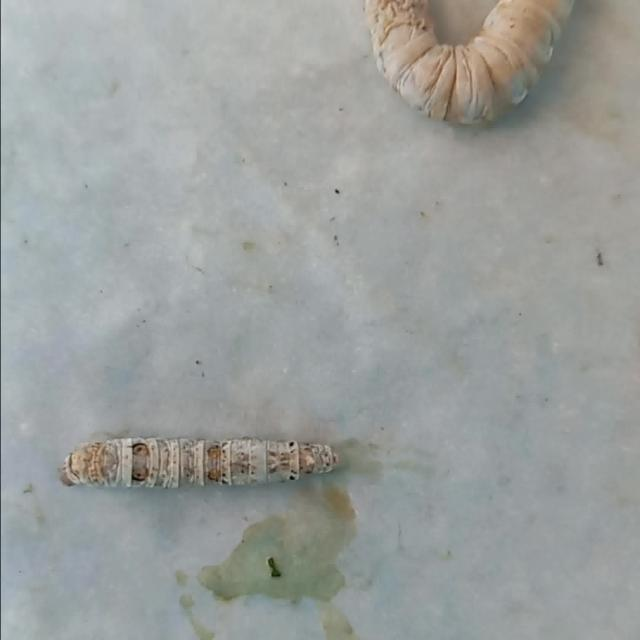Grasserie: (46, 397, 345, 511), (349, 0, 577, 139)
